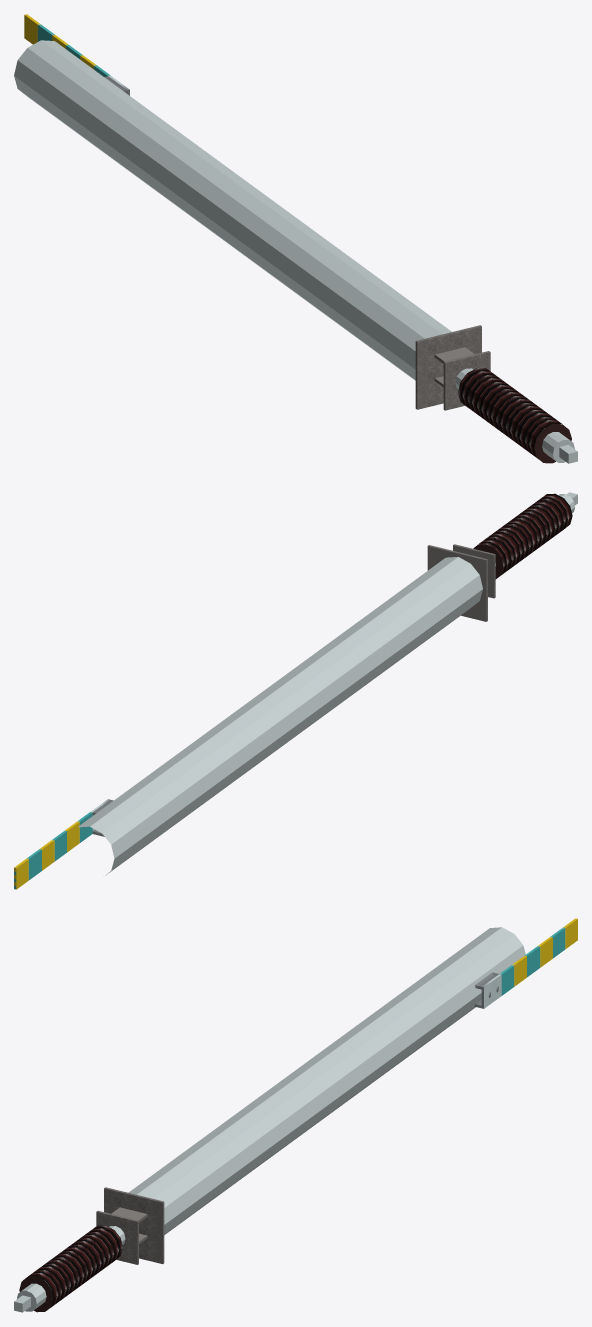
File: ftzbzsb-zzjyz-0125-geode.glb
3 views of the same model, one above another, from view 1: azimuth 30°, elevation 25°; view 2: azimuth 150°, elevation 25°; view 3: azimuth 330°, elevation 25° (orthographic). The views are drawn at different scales.
Visible parts, largest first — view 1: Node; view 2: Node; view 3: Node.
Part boxes in pixels (x1,y1,x2,y2): Node: (14, 14, 577, 463); Node: (14, 492, 577, 889); Node: (14, 918, 577, 1312).
Bounding box in the file's own units: 0.2447 × 0.2426 × 3.77.
Materials: 5 (5 with a texture image).
